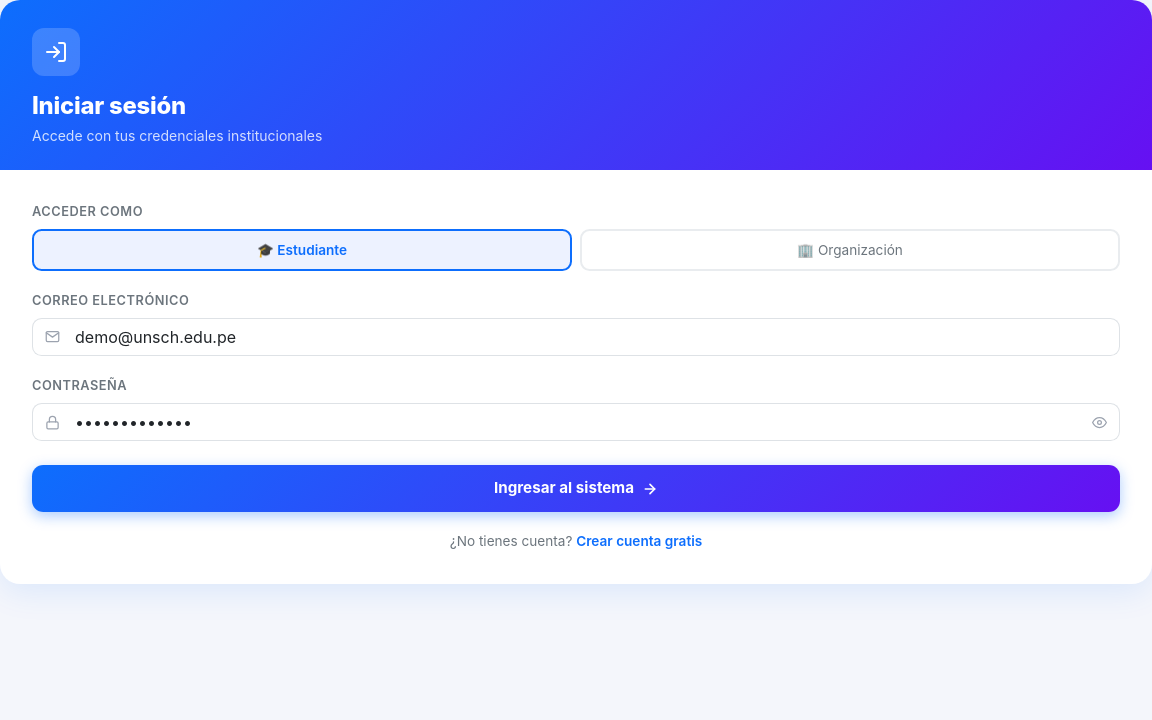
Scenario: LoginForm — interacción › toggle de visibilidad de contraseña cambia type del input
The image size is (1152, 720).
Click the button named "Ver contraseña". click: (1100,422)
box: 1080,403 -> 1120,441
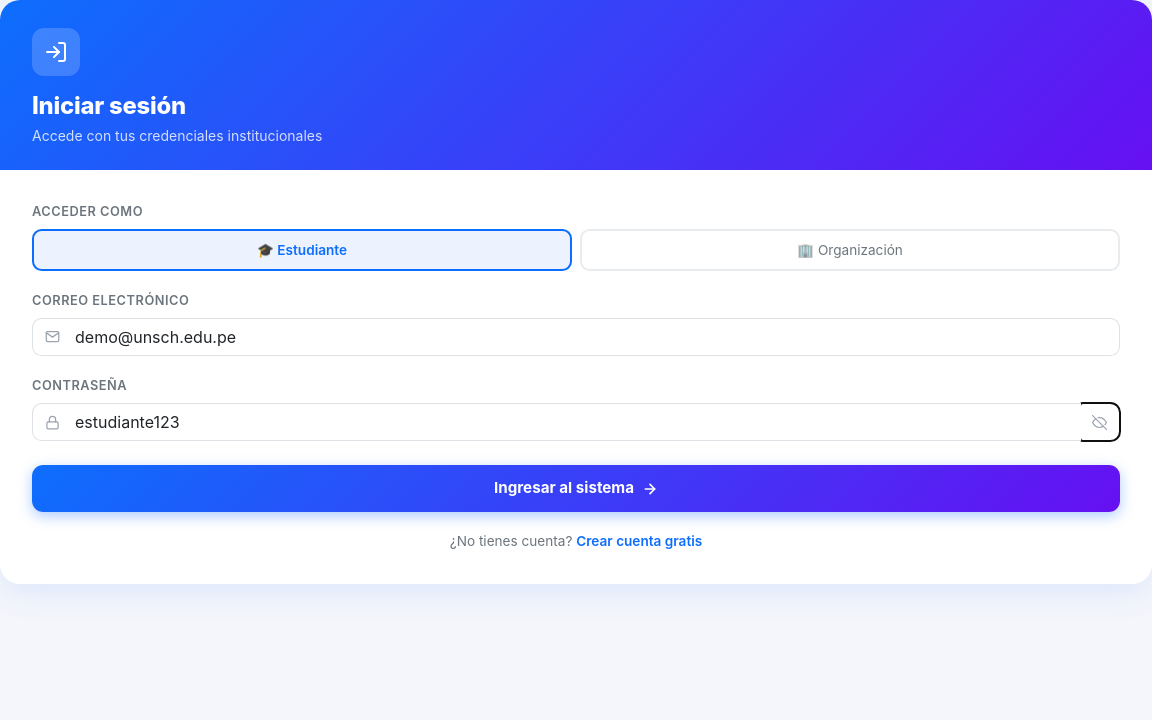
Expected: the field with placeholder "••••••••" below "Contraseña" shows its text, 71,403 -> 1081,441
Click the button named "Ocultar contraseña". click: (1100,422)
box: 1080,403 -> 1120,441
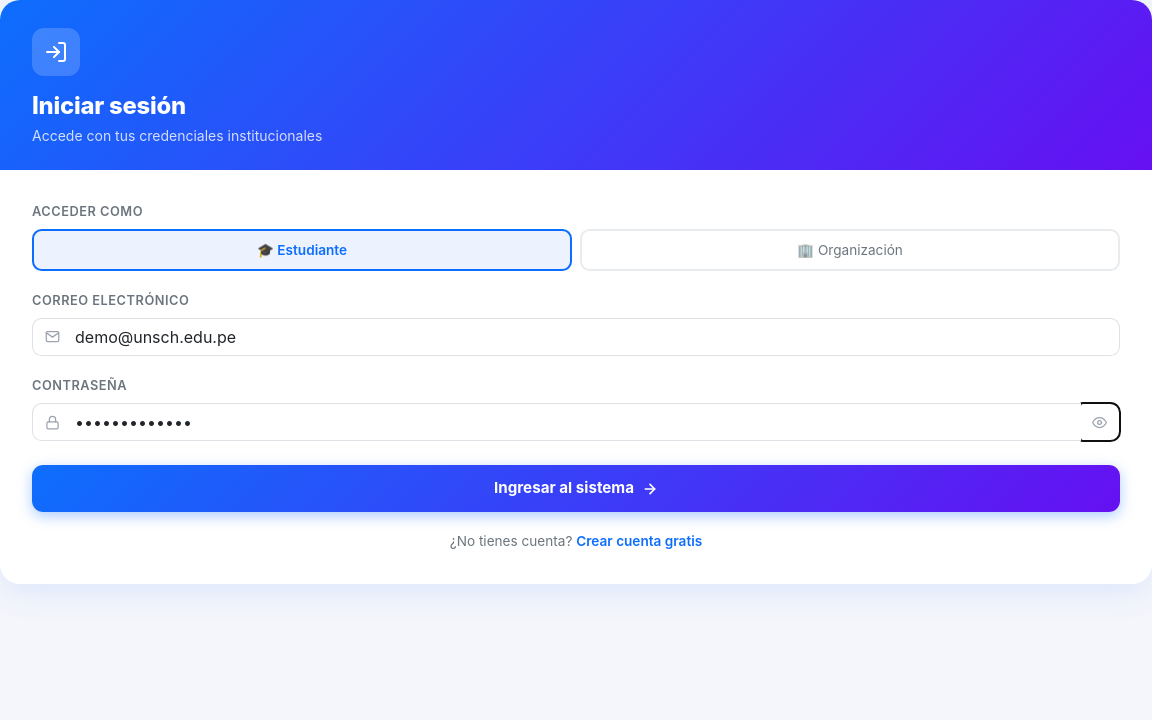
Expected: the password field with placeholder "••••••••" hides its text, 71,403 -> 1081,441
